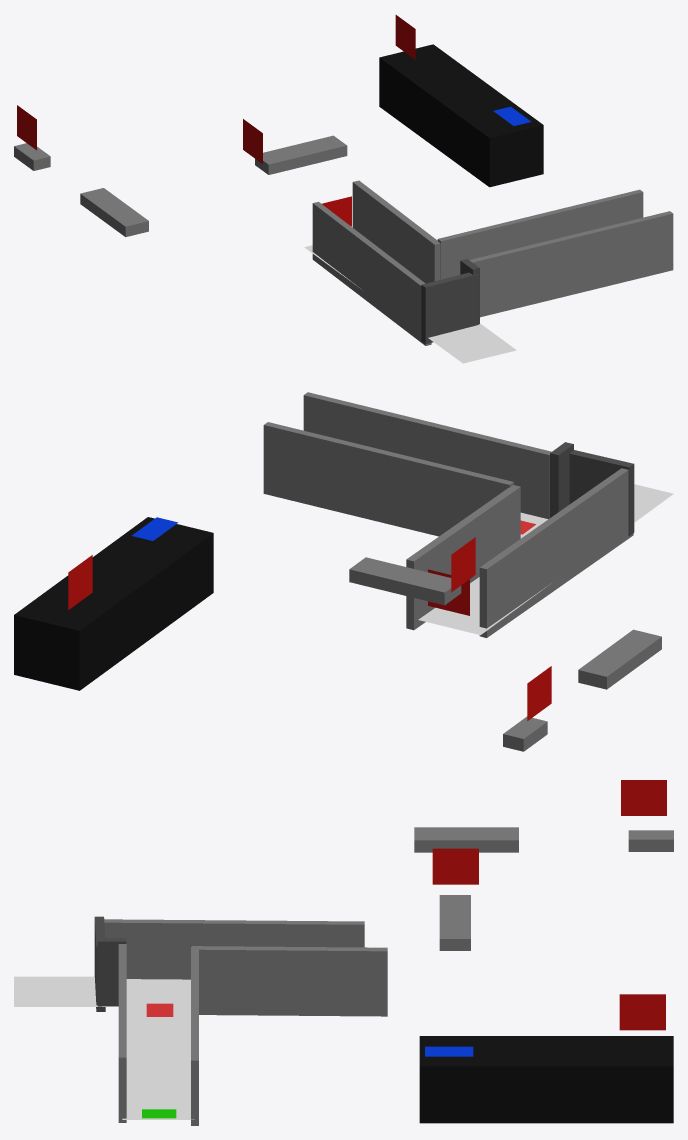
Rendered from Red_level.fbx.
The picture shows the model from 3 angles, top to bottom: view 1: azimuth 30°, elevation 25°; view 2: azimuth 150°, elevation 25°; view 3: azimuth 270°, elevation 25°; orthographic projection. The views are drawn at different scales.
Parts seen in each view (by area): view 1: Cube.009, Cube.001, Cube.004, Cube, Cube.005, Cube.003, Plane.003, Cube.006, Cube.007, Cube.008, Plane.007, Plane.006 (+1 smaller); view 2: Cube.009, Cube, Cube.004, Cube.001, Cube.005, Cube.006, Cube.007, Plane.003, Cube.003, Cube.002, Cube.008, Plane.005 (+4 smaller); view 3: Cube.009, Cube.005, Cube.004, Plane, Plane.003, Cube.007, Cube.006, Plane.007, Plane.005, Plane.006, Cube.001, Cube.002 (+4 smaller).
Boxes of the visible parts, box(x1,y1,x2,y2) form: Cube.009: box(379, 44, 543, 187); Cube.001: box(469, 211, 673, 317); Cube.004: box(312, 201, 431, 345); Cube: box(437, 189, 643, 279); Cube.005: box(352, 180, 440, 283); Cube.003: box(421, 272, 478, 343); Plane.003: box(304, 245, 516, 363); Cube.006: box(255, 135, 347, 174); Cube.007: box(80, 188, 148, 237); Cube.008: box(14, 143, 50, 170); Plane.007: box(395, 15, 415, 59); Plane.006: box(17, 105, 36, 150); Cube.009: box(14, 517, 213, 690); Cube: box(263, 422, 513, 536); Cube.004: box(479, 468, 633, 637); Cube.001: box(303, 392, 551, 519); Cube.005: box(406, 485, 520, 630); Cube.006: box(349, 557, 461, 605); Cube.007: box(578, 629, 661, 689); Plane.003: box(418, 484, 673, 635); Cube.003: box(569, 450, 634, 536); Cube.002: box(550, 442, 573, 517); Cube.008: box(503, 716, 547, 751); Plane.005: box(451, 537, 475, 592); Cube.009: box(419, 1036, 673, 1123); Cube.005: box(192, 946, 387, 1016); Cube.004: box(104, 919, 364, 979); Plane: box(122, 983, 194, 1119); Plane.003: box(14, 976, 190, 1006); Cube.007: box(414, 827, 518, 852); Cube.006: box(439, 895, 470, 950); Plane.007: box(619, 994, 665, 1030); Plane.005: box(432, 848, 478, 884); Plane.006: box(621, 780, 666, 815); Cube.001: box(118, 944, 126, 1122); Cube.002: box(97, 937, 126, 1006).
Size of the model in its own units: 1560 by 388 by 1834.
